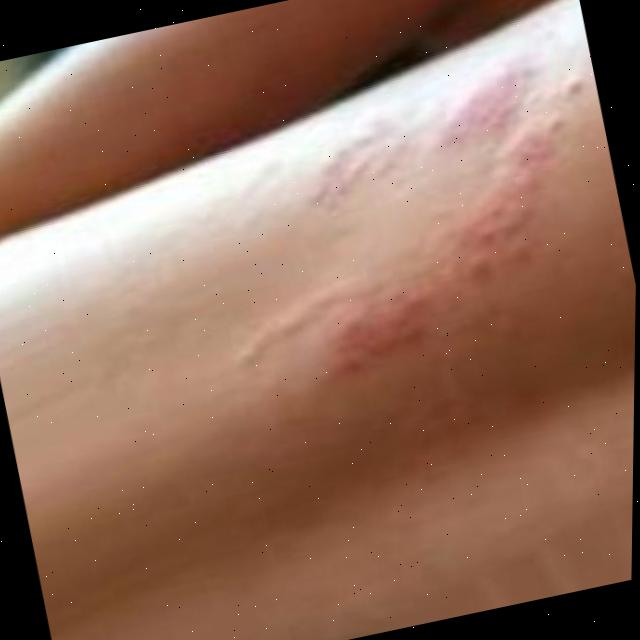Shingles: (204, 50, 626, 391)
